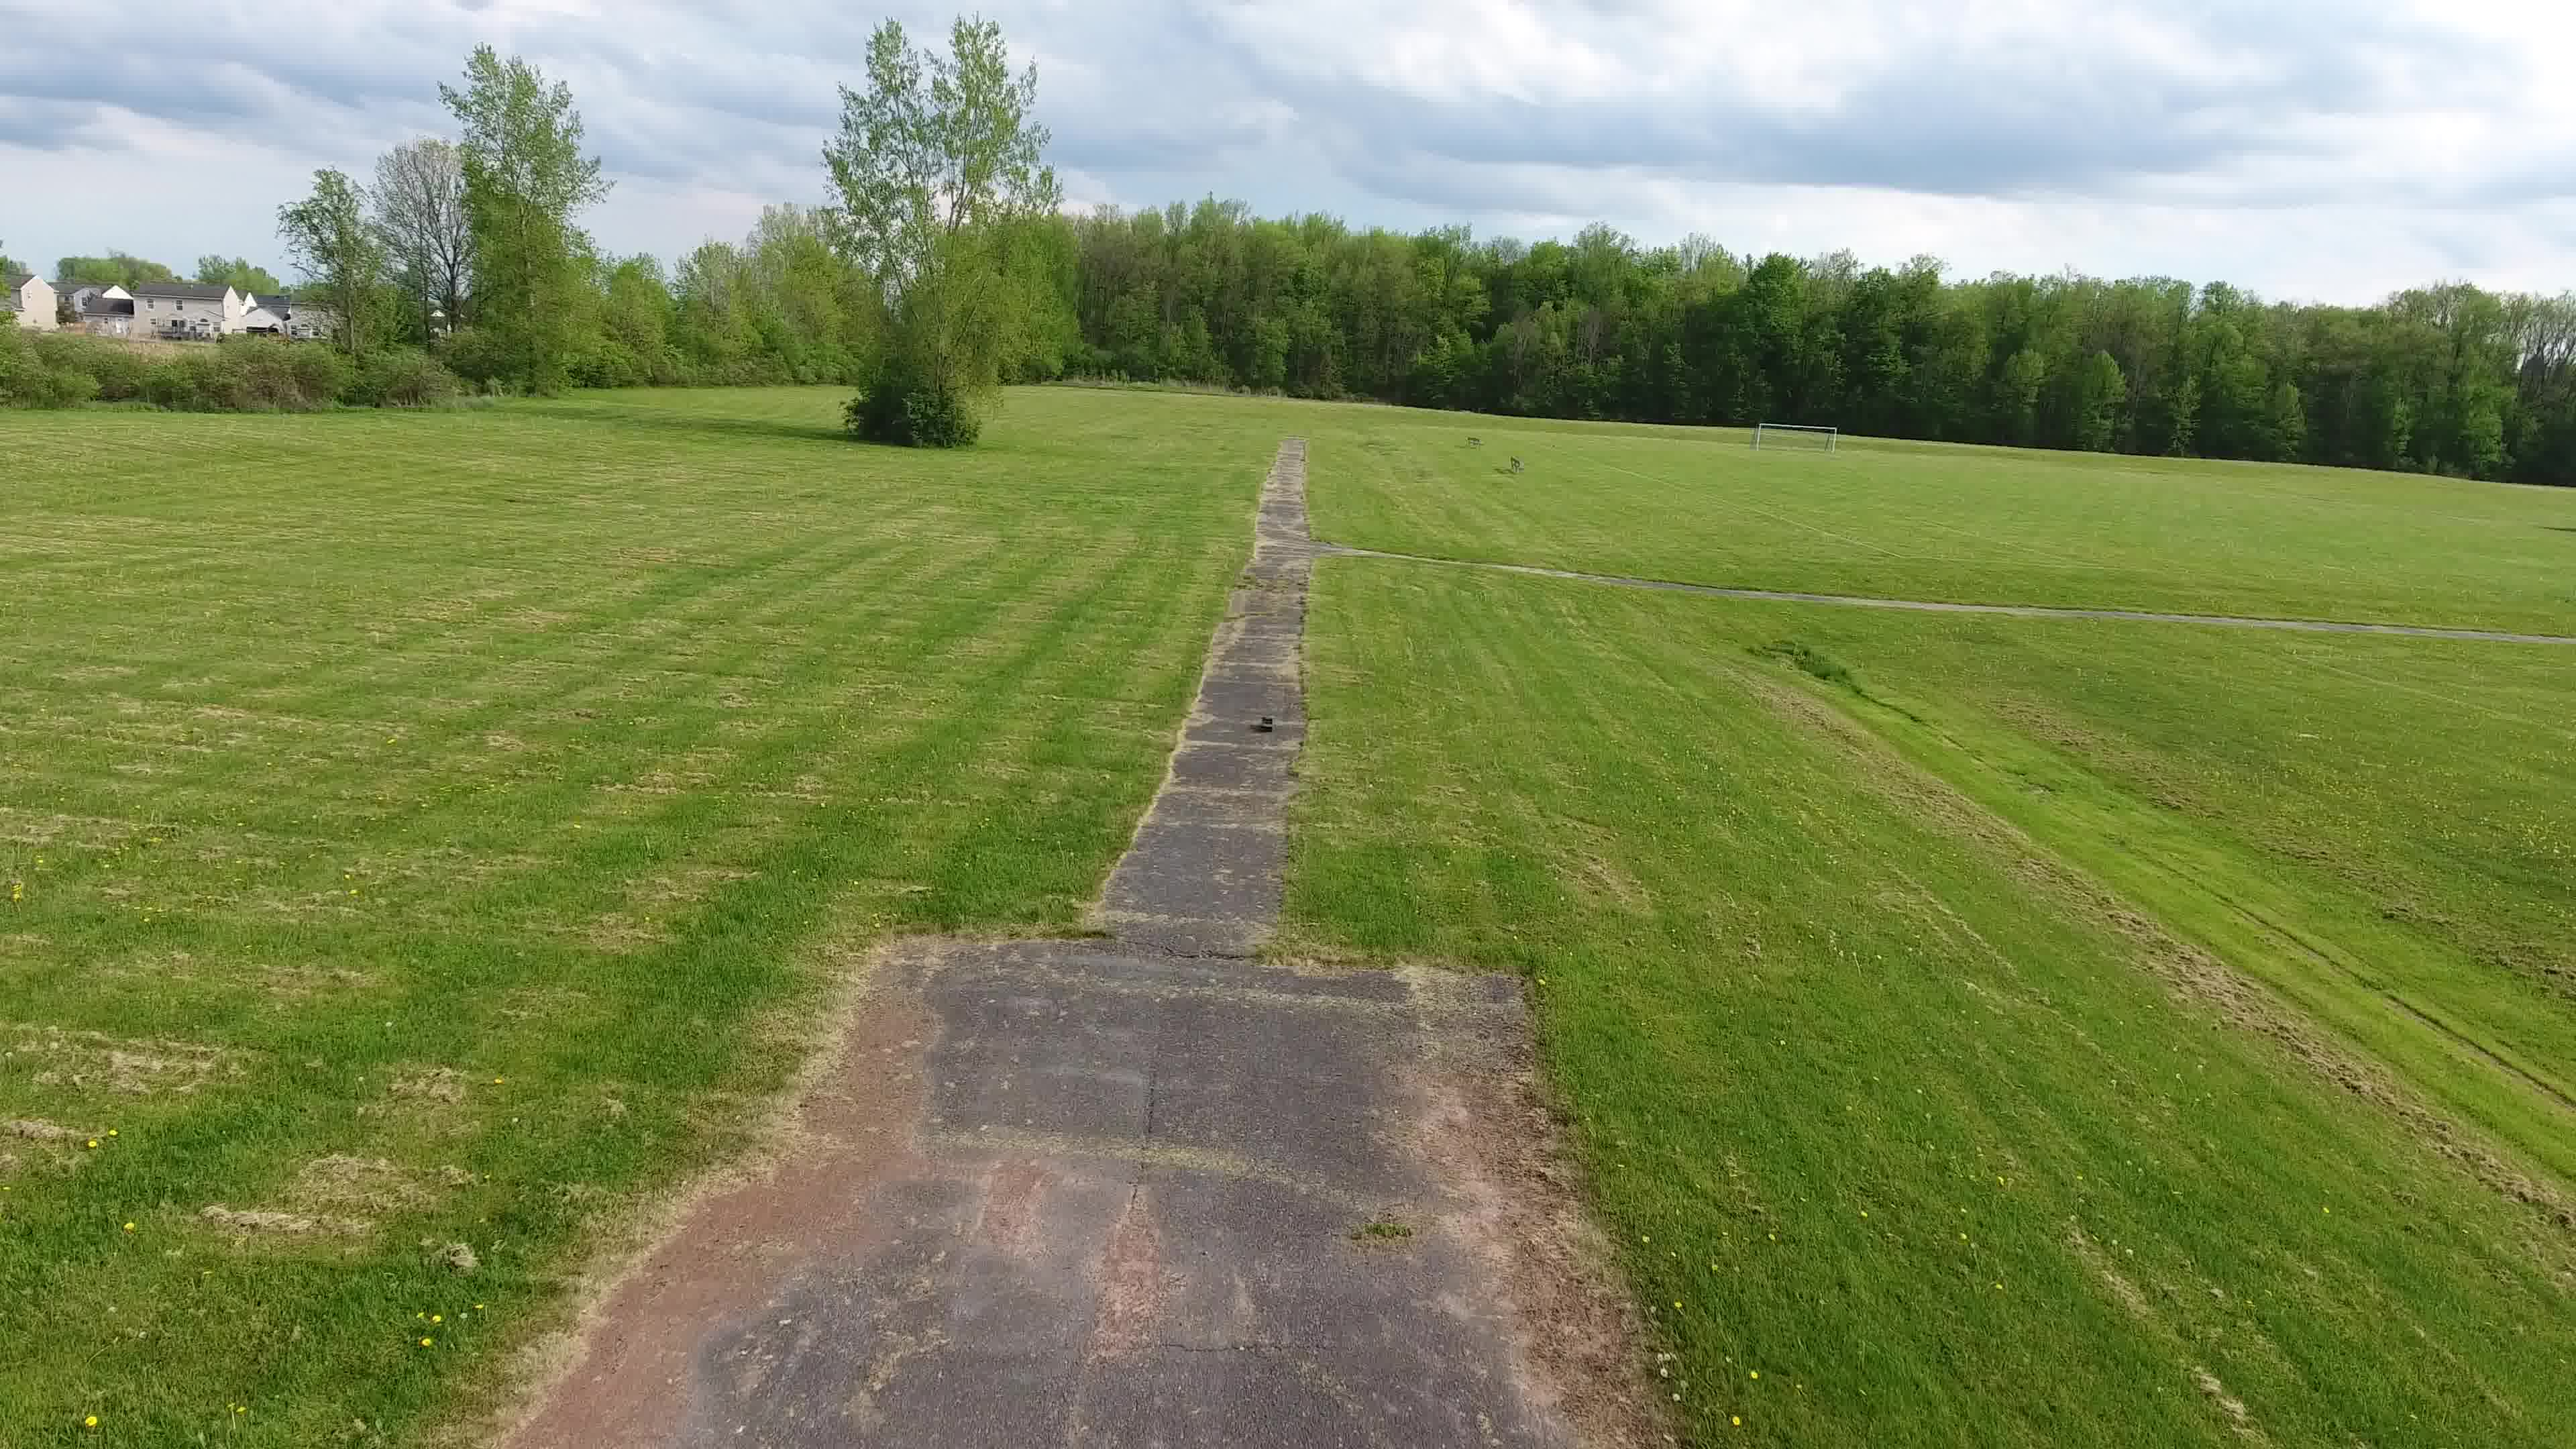transporter9_camo: (1260, 717, 1274, 734)
